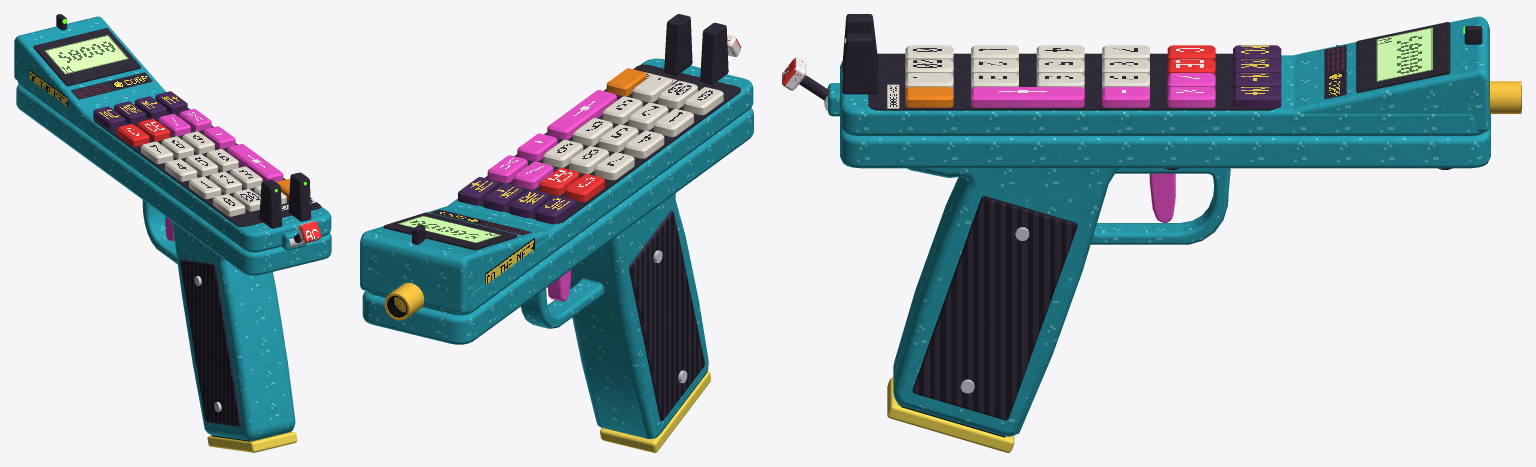
File: w_pistol_calc.glb
3 views of the same model, side by side, from view 1: azimuth 30°, elevation 25°; view 2: azimuth 150°, elevation 25°; view 3: azimuth 270°, elevation 25° (orthographic). The views are drawn at different scales.
Visible parts, largest first — view 1: pc_body_wzA, slide_wzB, slide_keys_wzN, mag_wzB, hammer_wzN; view 2: pc_body_wzA, slide_wzB, slide_keys_wzN, mag_wzB, pc_body_wzB, pc_body_wzN; view 3: pc_body_wzA, slide_wzB, slide_keys_wzN, mag_wzB, pc_body_wzN, pc_body_wzB, hammer_wzN.
Boxes of the visible parts, left/top/right/bottom form: pc_body_wzA: left=16, top=84, right=331, bottom=440; slide_wzB: left=14, top=14, right=331, bottom=252; slide_keys_wzN: left=28, top=35, right=316, bottom=216; mag_wzB: left=207, top=431, right=297, bottom=452; hammer_wzN: left=289, top=221, right=321, bottom=248; pc_body_wzA: left=362, top=107, right=753, bottom=439; slide_wzB: left=360, top=14, right=753, bottom=315; slide_keys_wzN: left=398, top=68, right=723, bottom=285; mag_wzB: left=600, top=371, right=711, bottom=452; pc_body_wzB: left=384, top=282, right=424, bottom=320; pc_body_wzN: left=547, top=250, right=687, bottom=383; pc_body_wzA: left=828, top=83, right=1490, bottom=436; slide_wzB: left=840, top=14, right=1489, bottom=135; slide_keys_wzN: left=887, top=27, right=1432, bottom=108; mag_wzB: left=887, top=377, right=1014, bottom=452; pc_body_wzN: left=960, top=173, right=1175, bottom=393; pc_body_wzB: left=901, top=81, right=1521, bottom=437; hammer_wzN: left=782, top=57, right=828, bottom=110.
Size of the model in its own units: 0.064 by 0.2085 by 0.3387.
16 materials, 9 textured.
